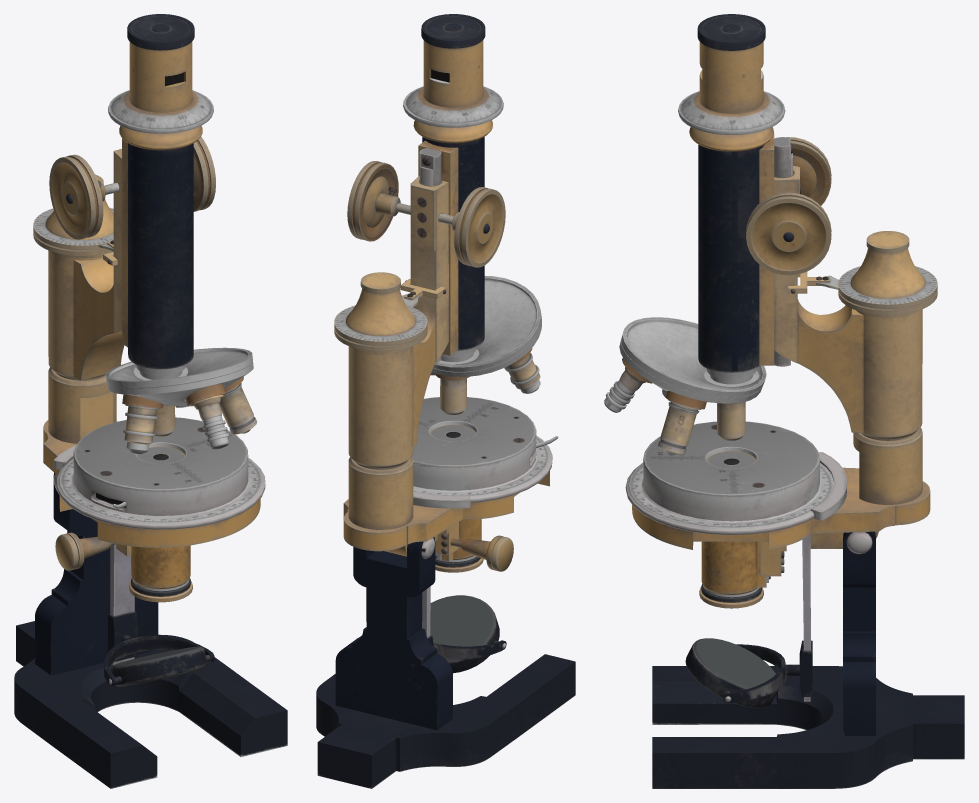
File: vintage_microscope.glb
3 views of the same model, side by side, from view 1: azimuth 30°, elevation 25°; view 2: azimuth 150°, elevation 25°; view 3: azimuth 270°, elevation 25° (orthographic). The views are drawn at different scales.
Visible parts, largest first — view 1: vintage_microscope_rack_mount_support, vintage_microscope_eye_piece, vintage_microscope_base, vintage_microscope_revolver, vintage_microscope_adjustment, vintage_microscope_mirror_arm, vintage_microscope_condenser, vintage_microscope_mirror_base; view 2: vintage_microscope_rack_mount_support, vintage_microscope_base, vintage_microscope_eye_piece, vintage_microscope_adjustment, vintage_microscope_mirror_base, vintage_microscope_revolver, vintage_microscope_condenser, vintage_microscope_mirror_arm; view 3: vintage_microscope_rack_mount_support, vintage_microscope_base, vintage_microscope_eye_piece, vintage_microscope_adjustment, vintage_microscope_revolver, vintage_microscope_condenser, vintage_microscope_mirror_base, vintage_microscope_mirror_arm.
Boxes of the visible parts, <box> form: vintage_microscope_rack_mount_support: <box>33,149,265,570</box>; vintage_microscope_eye_piece: <box>105,14,252,388</box>; vintage_microscope_base: <box>14,473,287,788</box>; vintage_microscope_revolver: <box>107,362,256,453</box>; vintage_microscope_adjustment: <box>49,136,215,239</box>; vintage_microscope_mirror_arm: <box>104,544,214,685</box>; vintage_microscope_condenser: <box>129,446,192,602</box>; vintage_microscope_mirror_base: <box>111,646,207,686</box>; vintage_microscope_rack_mount_support: <box>334,176,558,571</box>; vintage_microscope_base: <box>316,537,575,788</box>; vintage_microscope_eye_piece: <box>403,14,541,371</box>; vintage_microscope_adjustment: <box>347,161,505,267</box>; vintage_microscope_mirror_base: <box>430,595,499,673</box>; vintage_microscope_revolver: <box>430,316,541,414</box>; vintage_microscope_condenser: <box>430,425,483,572</box>; vintage_microscope_mirror_arm: <box>422,586,506,659</box>; vintage_microscope_rack_mount_support: <box>625,166,937,576</box>; vintage_microscope_base: <box>652,531,964,788</box>; vintage_microscope_eye_piece: <box>621,14,793,397</box>; vintage_microscope_adjustment: <box>746,137,831,275</box>; vintage_microscope_revolver: <box>604,337,762,455</box>; vintage_microscope_condenser: <box>699,451,770,608</box>; vintage_microscope_mirror_base: <box>685,638,778,707</box>; vintage_microscope_mirror_arm: <box>723,534,812,702</box>.
Bounding box in the file's own units: 0.1068 × 0.3996 × 0.1819.
Materials: 2 (2 with a texture image).
